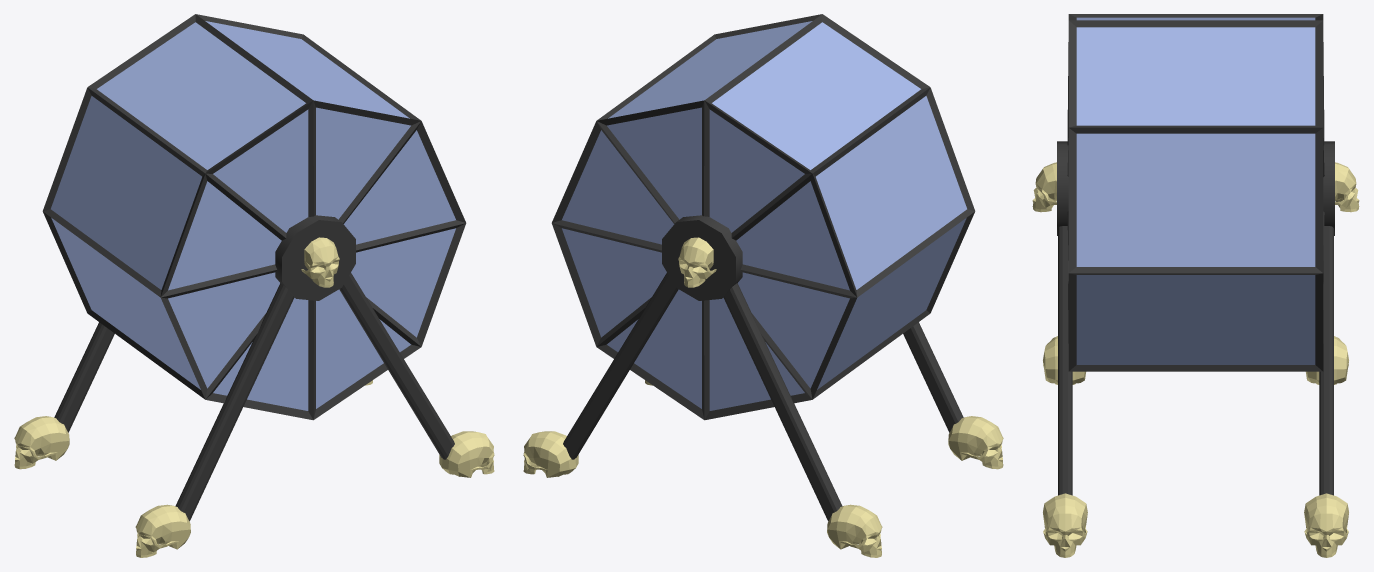
The model's file is Bolillerov01.fbx.
The picture shows the model from 3 angles, left to right: view 1: azimuth 30°, elevation 25°; view 2: azimuth 150°, elevation 25°; view 3: azimuth 270°, elevation 25°; orthographic projection. The views are drawn at different scales.
Parts seen in each view (by area): view 1: Cylinder.007; view 2: Cylinder.007; view 3: Cylinder.007.
Boxes of the visible parts, box(x1,y1,x2,y2) form: Cylinder.007: box(14, 14, 494, 557); Cylinder.007: box(523, 14, 1003, 557); Cylinder.007: box(1032, 14, 1359, 557).
Size of the model in its own units: 1.6 by 1.76 by 1.17.
